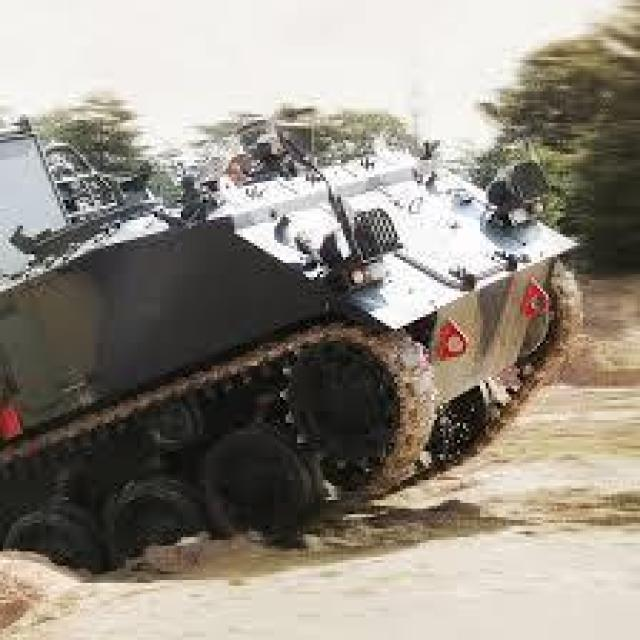Tanks: (0, 100, 583, 554)
